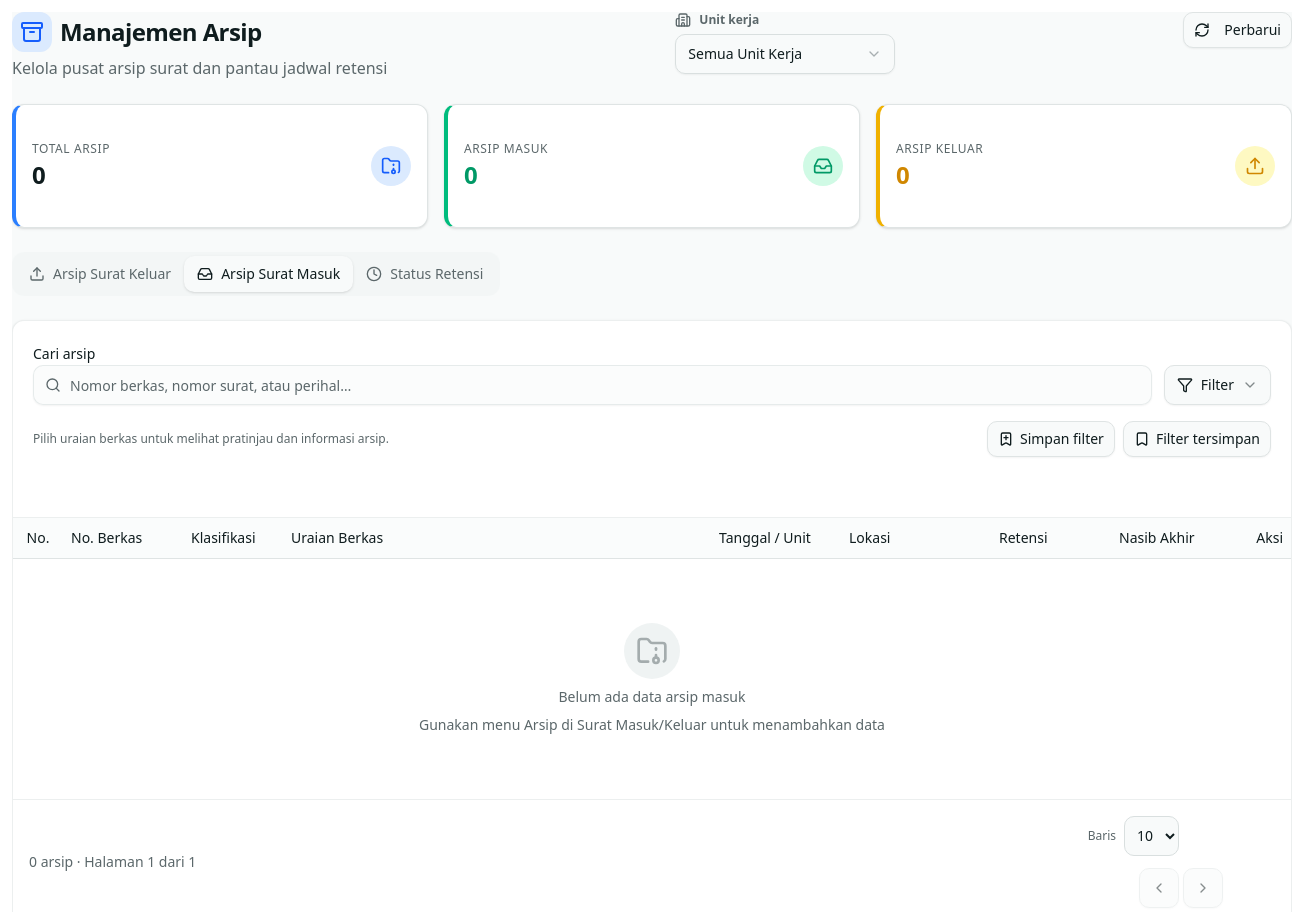
visible search and associated filter labels › labels the real arsip controls
Check: the text "Cari arsip" is shown, box [33,344,95,363]
Check: the dropdown labelled "Unit Kerja" is shown, box [675,34,895,74]
Click the button "Filter": (1217,385) [1164,365,1271,405]
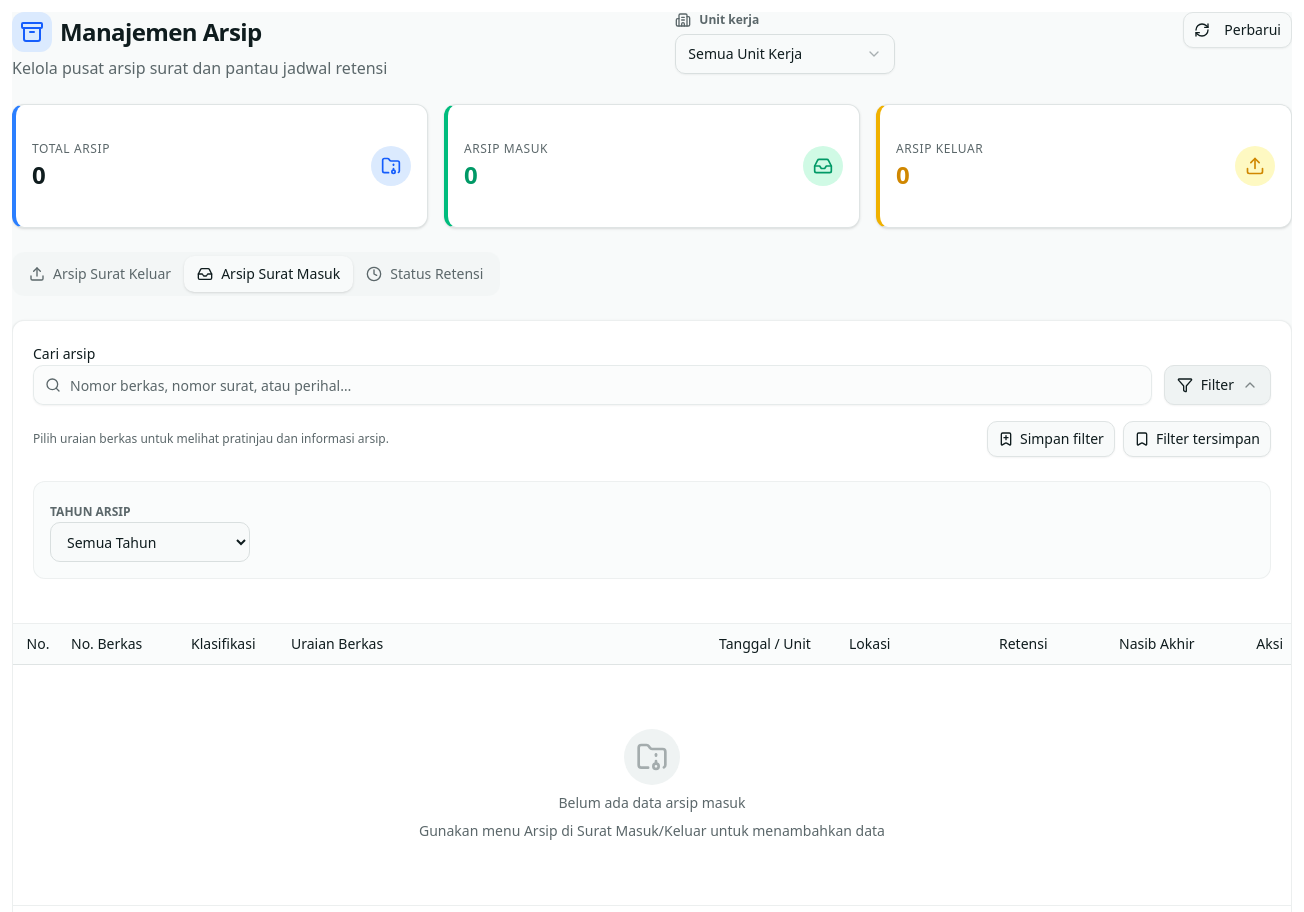
Check: the text "Tahun Arsip" is shown, box [50,503,130,520]
